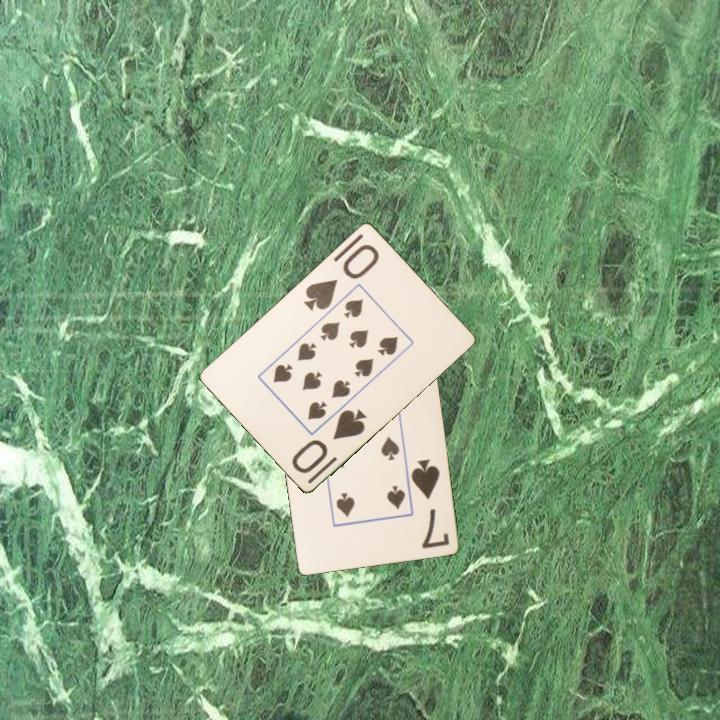10s: (300, 240, 382, 314), (288, 404, 370, 476)
7s: (407, 455, 452, 551)
